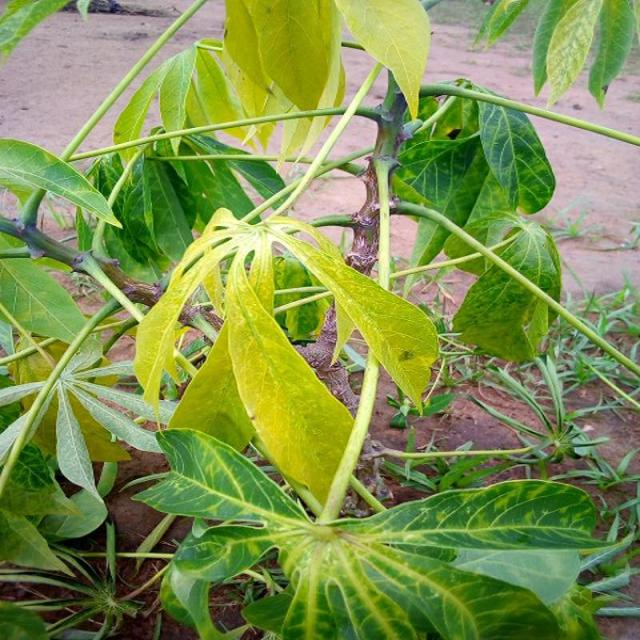cassava leaf: (222, 252, 358, 516), (449, 216, 562, 365)
